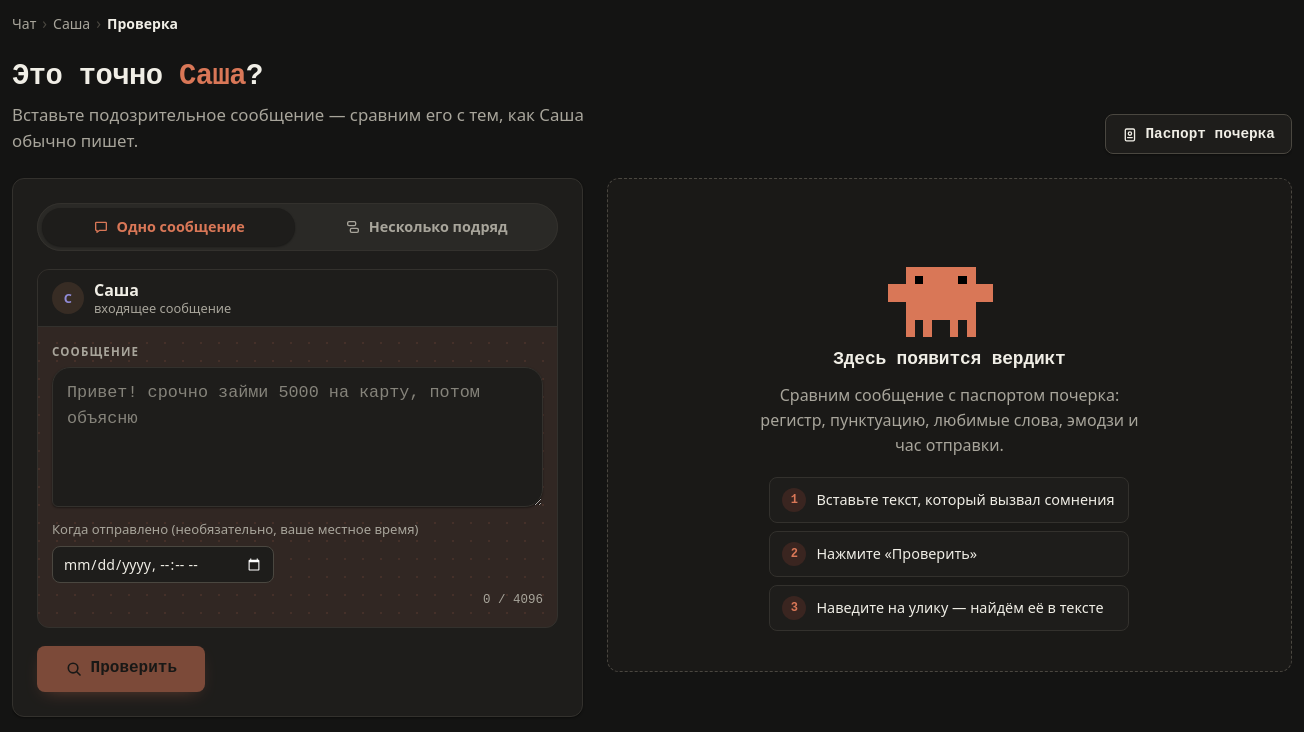
Test: пустой текст не отправляется, время уходит в UTC
The image size is (1304, 732).
Check: the button "Проверить" is disabled, box [37,646,205,692]
Type "2026-10-26T03:12" into the field labelled "Когда отправлено (необязательно, ваше местное время)" at (163, 565), box [52,546,274,584]
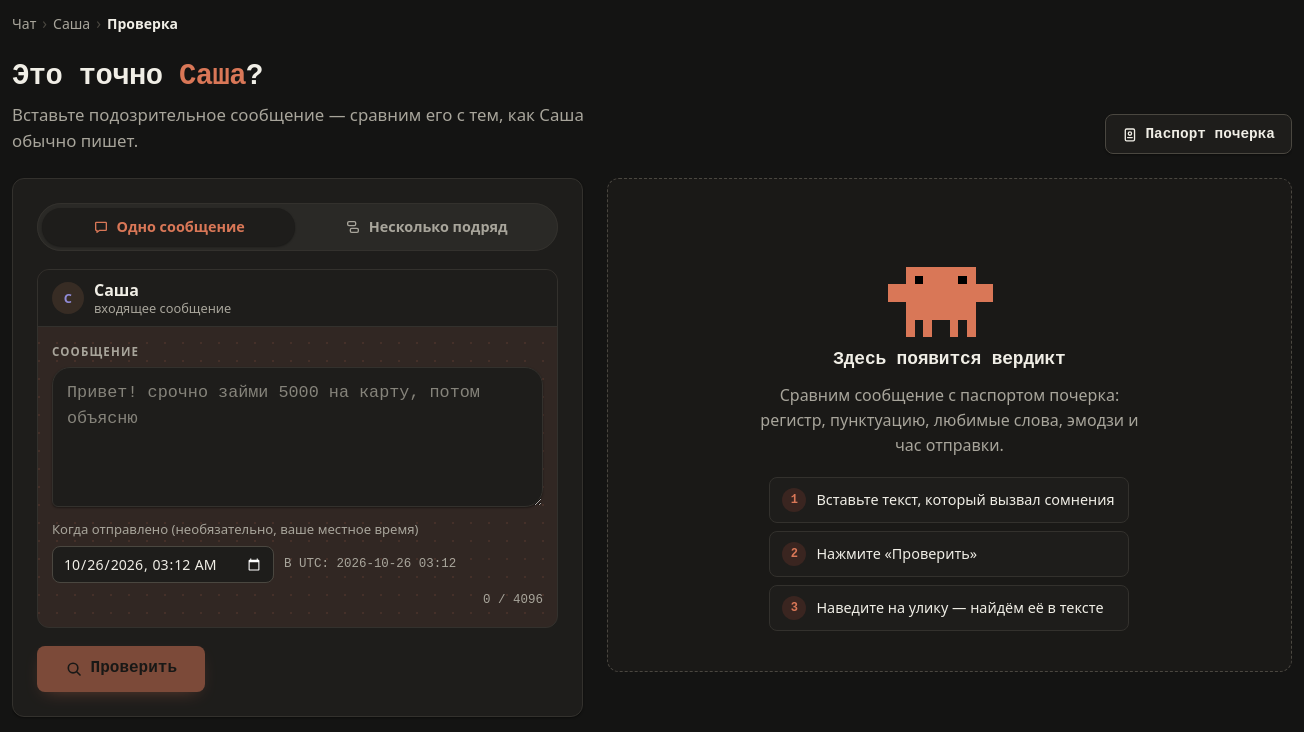
Type "прив" into the text box labelled "Сообщение" at (297, 437), box [52,367,543,507]
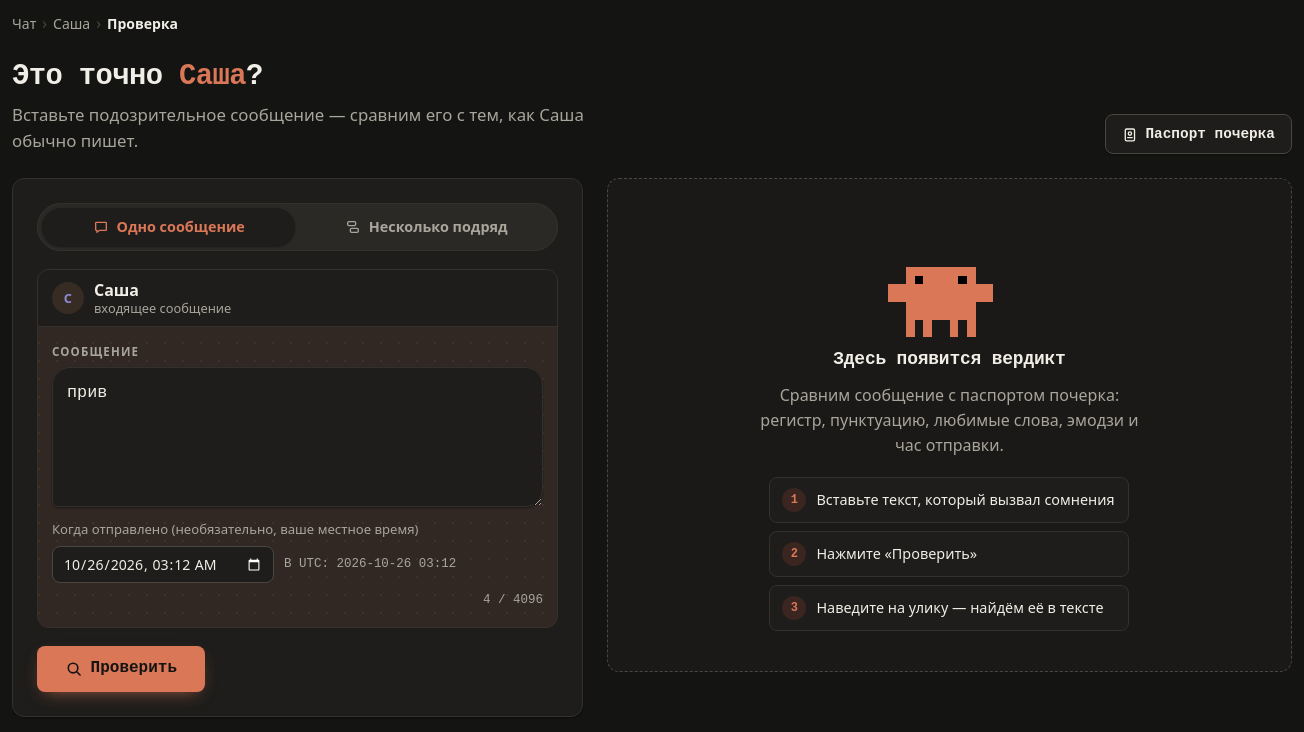
Click the button "Проверить" at (121, 669), box [37,646,205,692]
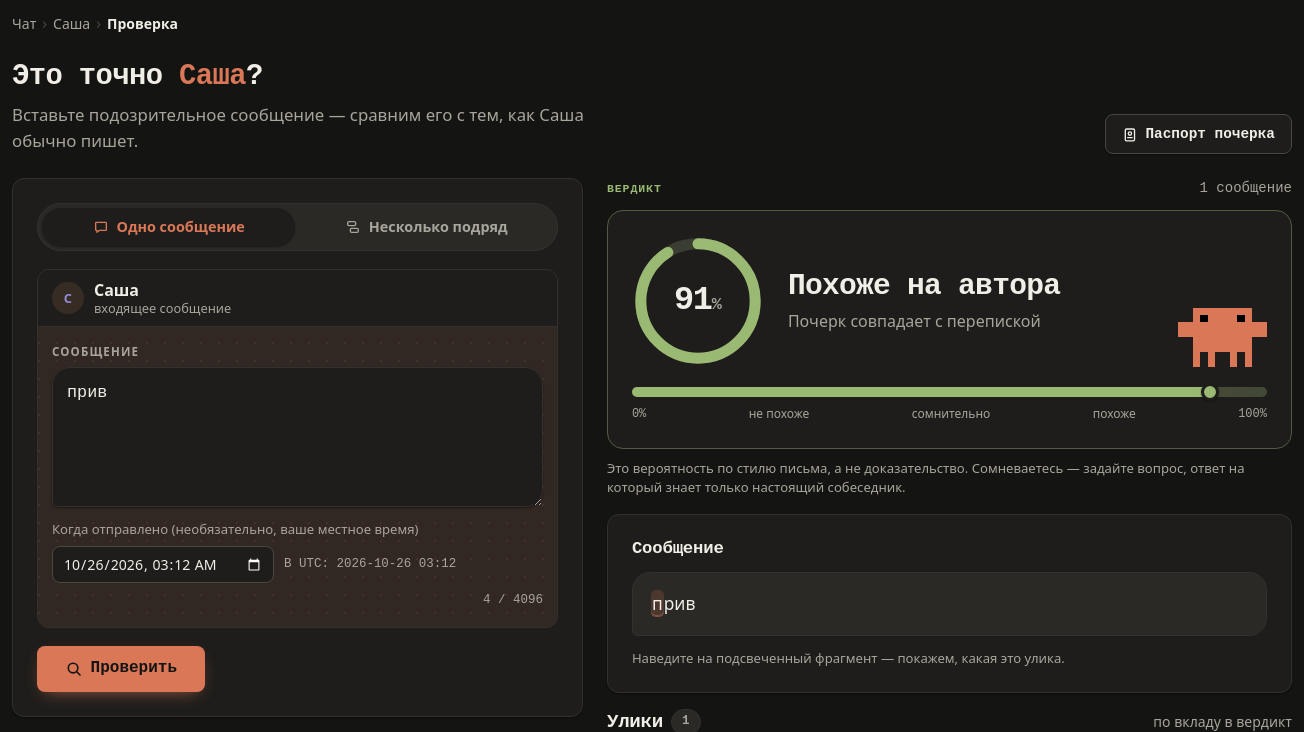
Check: the text "Похоже на автора" is shown, box [788,269,1060,303]
